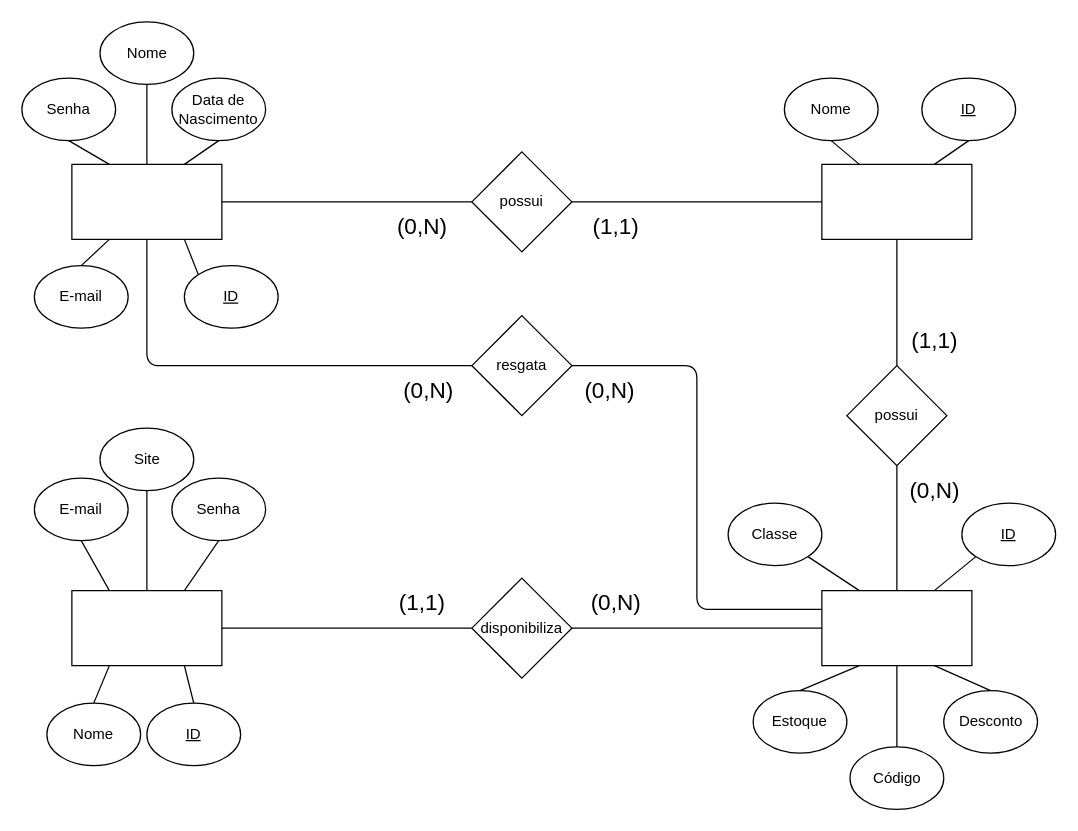
Image size: 1078x831. Some labels were removed from this diagram. Each missing label, with the centre of its shape:
"Assinatura" belongs at point (896, 201).
"Cupom" belongs at point (896, 627).
"Loja" belongs at point (146, 627).
"Usuário" belongs at point (146, 201).
